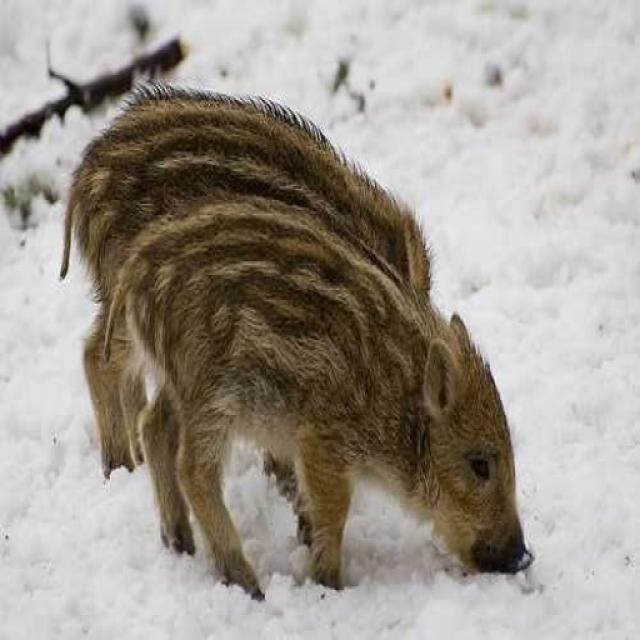pig: (124, 219, 539, 588), (74, 71, 446, 467)
